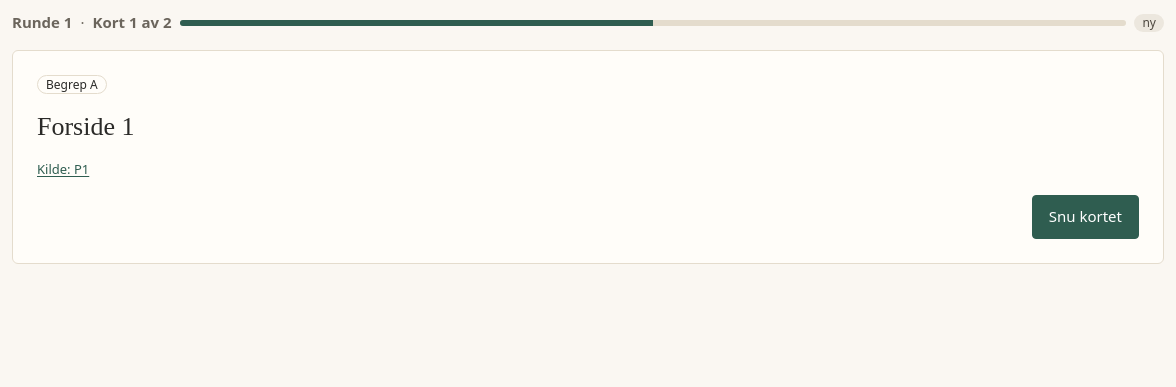
Scenario: RoundScreen, last card to the Quiz part (Story 2.3) › the last mark shows the first question with focus on 'Spørsmål 1 av 1' and the page title 'Runde 1, quiz'
Click the button "Snu kortet": (1085, 217) x1=1032 y1=195 x2=1139 y2=239
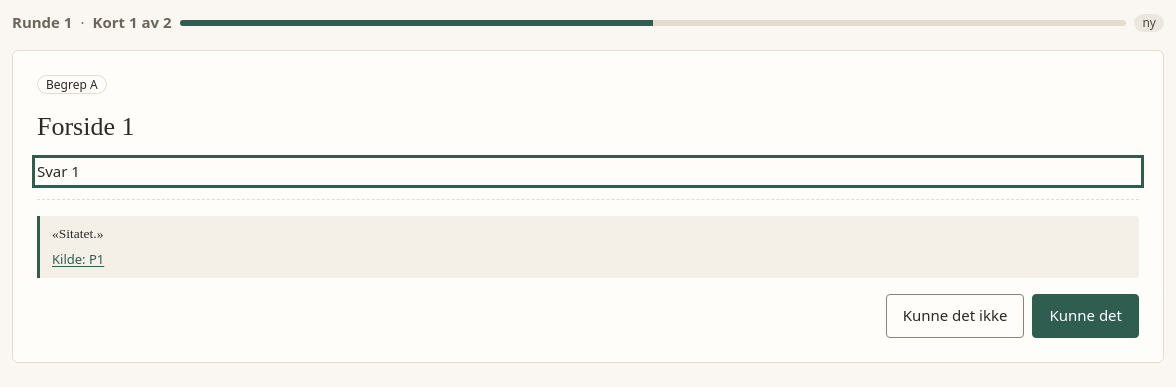
Click the button "Kunne det ikke": (955, 316) x1=886 y1=294 x2=1024 y2=338
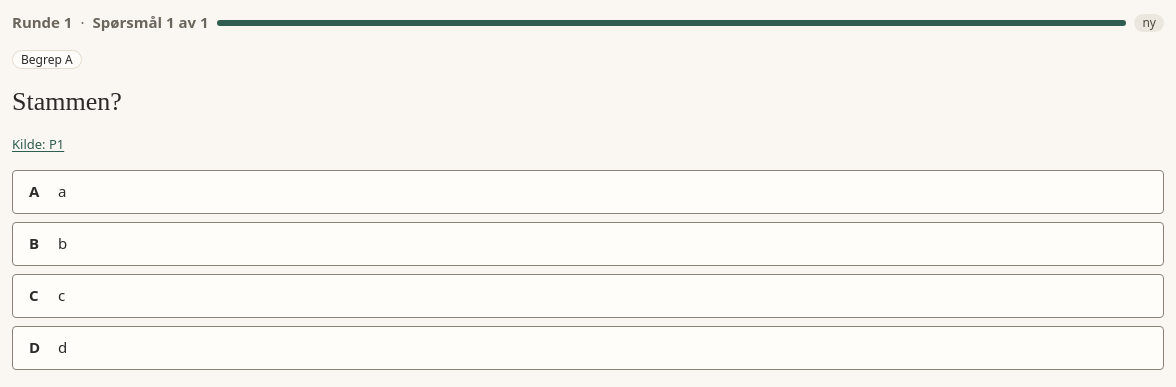
Now the heading "Spørsmål 1 av 1" is shown, box x1=92 y1=12 x2=209 y2=34
Now the text "Stammen?" is shown, box x1=12 y1=87 x2=122 y2=116
